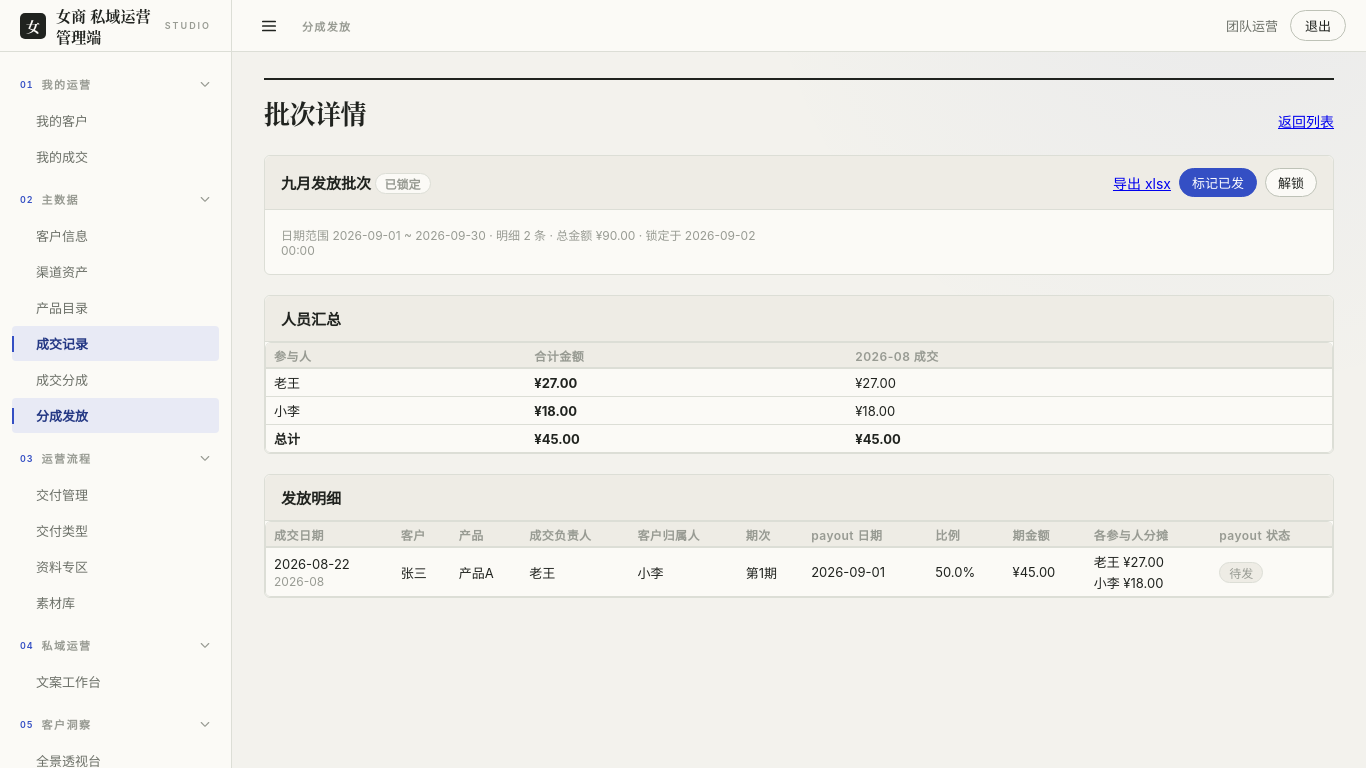
Scenario: 分成发放（payout 批次） › operator（locked 批次）：可见「标记已发/解锁」；确认后发出 POST mark-paid
Check: the heading "人员汇总" is shown, box [281, 308, 341, 329]
Click the button "标记已发".
click(1218, 182)  # box [1179, 168, 1257, 197]
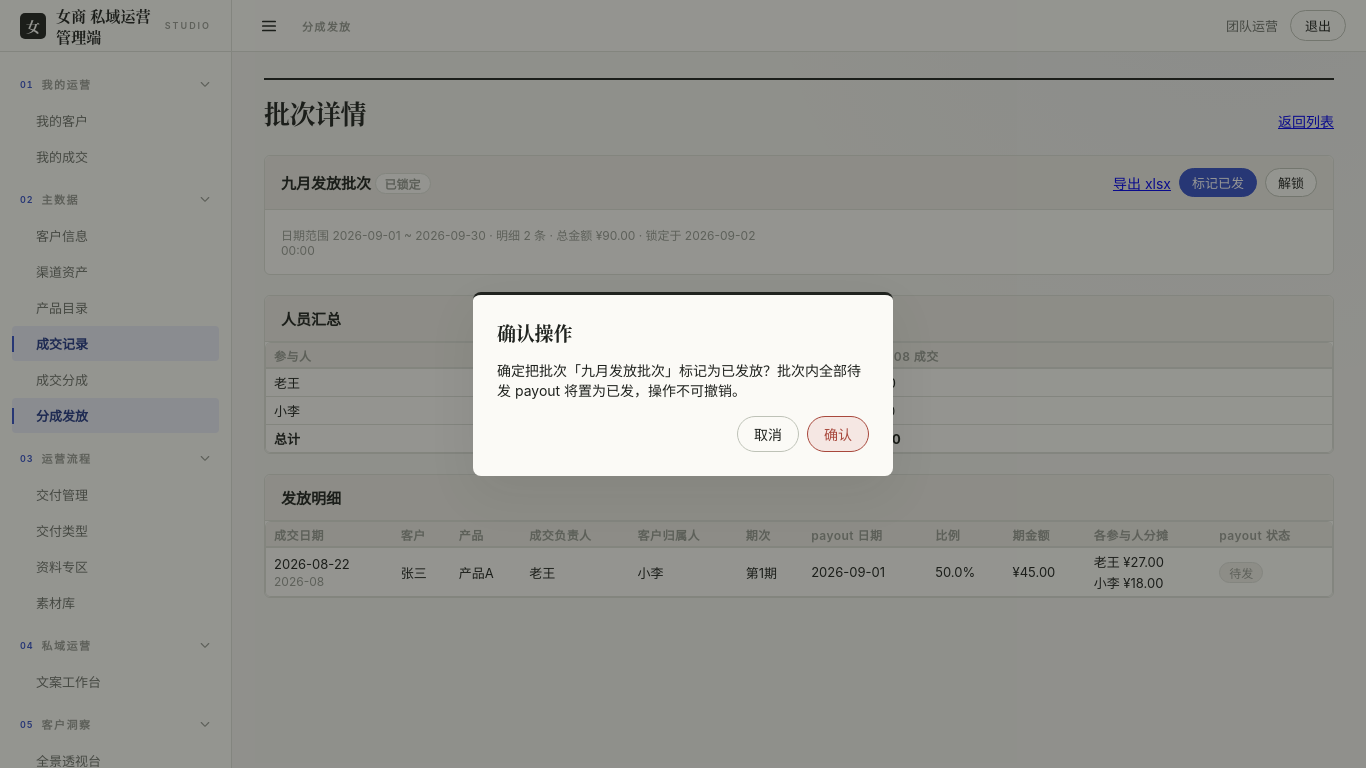
Check: the text "确定把批次「九月发放批次」标记为已发放？批次内全部待发 payout 将置为已发，操作不可撤销。" is shown, box [497, 360, 869, 400]
Click the button "确认".
click(838, 434)  # box [807, 416, 869, 452]
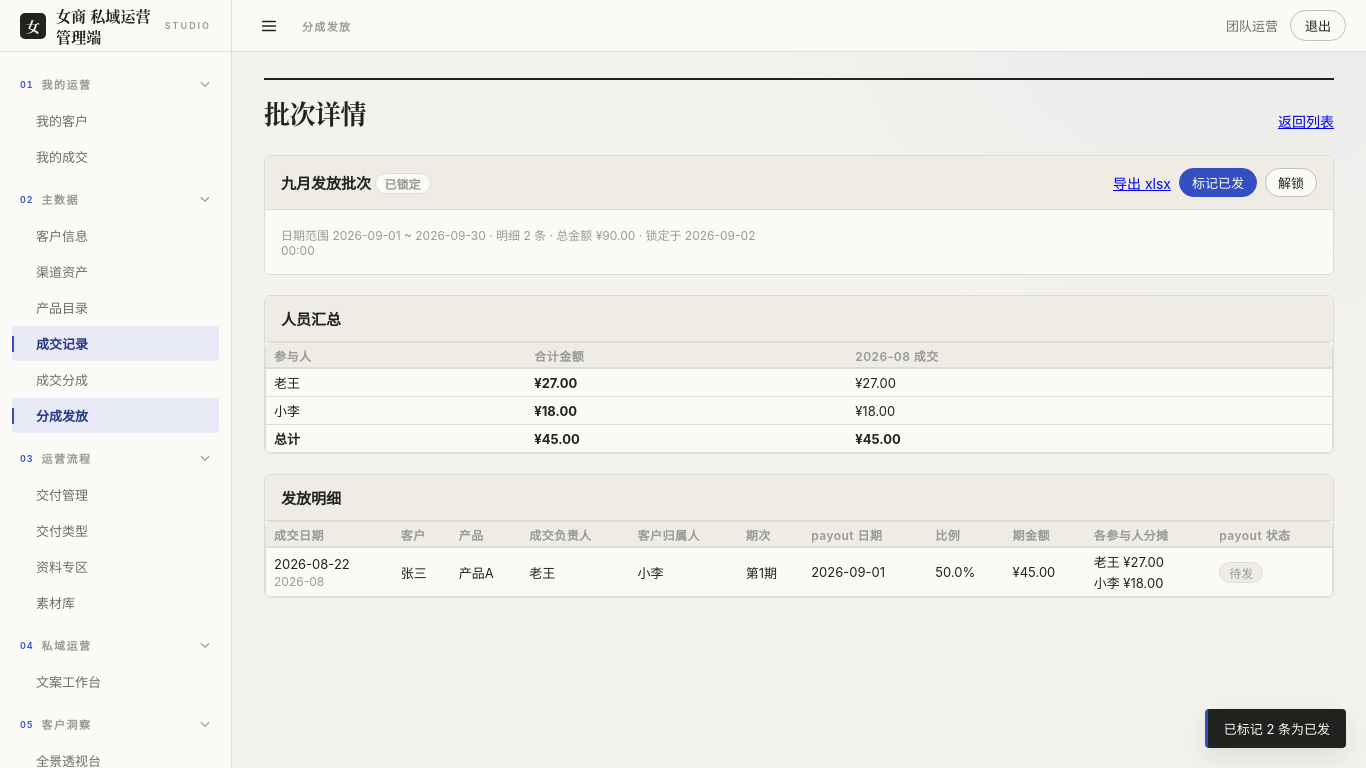
Check: the text "已标记 2 条为已发" is shown, box [1205, 709, 1346, 748]
